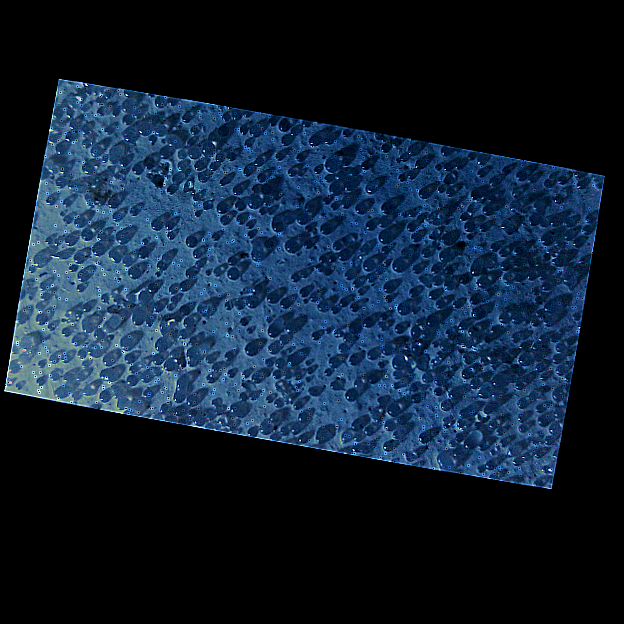GrassBeadSeg: (164, 221, 548, 472), (186, 169, 581, 413), (53, 214, 595, 391), (72, 174, 526, 382), (97, 145, 519, 342), (114, 148, 440, 395), (34, 212, 494, 386), (88, 145, 392, 405), (48, 197, 477, 381), (126, 206, 590, 374), (14, 313, 578, 442), (208, 118, 417, 461), (127, 263, 487, 451), (109, 211, 393, 447), (79, 182, 439, 366), (69, 205, 493, 347), (95, 184, 522, 323), (194, 230, 573, 385), (303, 169, 579, 380), (189, 242, 528, 409), (333, 160, 527, 433), (14, 218, 520, 322), (252, 214, 551, 383), (231, 185, 432, 435), (303, 225, 566, 416), (36, 315, 393, 452), (73, 221, 310, 421), (195, 173, 509, 323), (165, 231, 396, 430), (167, 214, 399, 407), (272, 223, 489, 424), (218, 216, 450, 403), (136, 247, 484, 371), (325, 255, 588, 419), (183, 203, 392, 408), (79, 291, 362, 442), (74, 284, 418, 402), (140, 238, 558, 331), (142, 240, 375, 399), (218, 202, 373, 434), (364, 215, 559, 383), (112, 184, 273, 376), (65, 180, 185, 415), (199, 141, 342, 338), (34, 215, 292, 324), (245, 231, 419, 392), (134, 249, 318, 398), (301, 239, 431, 443), (207, 307, 402, 443), (79, 270, 339, 368), (157, 147, 280, 353), (118, 336, 451, 410), (149, 354, 429, 440), (442, 218, 559, 421), (152, 219, 328, 351), (244, 326, 461, 431), (341, 271, 564, 369), (265, 316, 451, 428), (298, 288, 504, 388), (100, 306, 329, 395), (142, 314, 436, 382), (99, 316, 401, 381), (105, 267, 240, 412), (121, 335, 443, 395), (124, 299, 335, 386), (10, 264, 202, 354), (302, 204, 438, 323), (269, 220, 358, 401), (515, 226, 591, 422), (231, 203, 394, 294), (107, 250, 512, 286), (303, 295, 403, 440), (330, 241, 505, 322), (75, 200, 246, 280), (485, 173, 598, 284), (363, 294, 503, 382), (257, 355, 404, 434), (356, 309, 464, 416), (129, 279, 362, 326), (273, 334, 455, 387), (296, 202, 338, 421), (354, 285, 555, 327), (232, 187, 299, 305), (51, 110, 185, 169), (274, 321, 353, 421), (245, 157, 348, 224), (249, 249, 512, 275), (512, 200, 574, 306), (499, 166, 581, 242), (507, 200, 567, 303), (252, 327, 329, 403), (307, 292, 376, 375), (282, 134, 374, 196), (290, 126, 373, 193), (416, 247, 562, 282), (26, 242, 98, 311), (52, 392, 202, 425), (75, 349, 182, 394), (447, 264, 482, 401), (249, 366, 312, 441), (110, 271, 178, 339), (153, 97, 214, 171), (168, 301, 245, 358), (155, 261, 196, 367), (396, 153, 482, 203), (184, 316, 248, 383), (202, 302, 280, 355), (181, 317, 220, 420), (279, 128, 367, 173), (54, 120, 99, 208), (346, 301, 407, 364), (426, 162, 475, 239), (339, 381, 400, 442), (405, 195, 511, 229), (122, 255, 172, 326), (241, 369, 291, 433), (104, 179, 209, 209), (374, 357, 437, 406), (248, 117, 301, 175), (174, 377, 232, 428), (496, 327, 522, 435), (359, 322, 403, 385), (189, 317, 235, 377), (380, 221, 468, 251), (475, 353, 556, 385), (45, 176, 100, 223), (145, 122, 201, 168), (525, 239, 560, 312), (379, 136, 458, 168), (114, 397, 204, 425), (182, 378, 246, 416), (508, 173, 584, 204), (273, 338, 347, 368), (399, 188, 466, 221), (275, 126, 318, 176), (185, 113, 250, 146), (216, 109, 258, 160), (399, 258, 488, 282), (185, 249, 221, 307), (365, 283, 392, 359), (6, 328, 52, 372), (54, 125, 94, 175), (443, 154, 498, 190), (148, 220, 286, 234), (165, 161, 199, 217), (323, 321, 360, 372), (80, 116, 118, 164), (229, 403, 287, 434), (536, 241, 581, 280), (457, 321, 497, 364), (31, 242, 105, 265), (462, 365, 497, 413), (343, 188, 425, 208), (268, 401, 306, 443), (105, 255, 133, 311), (532, 248, 561, 302), (311, 330, 346, 374), (229, 140, 265, 182), (439, 145, 484, 177), (120, 103, 156, 143), (519, 439, 549, 486), (68, 332, 90, 396), (118, 158, 179, 181), (144, 281, 189, 312), (381, 260, 435, 285), (41, 295, 111, 313), (359, 138, 398, 170), (356, 220, 380, 271), (248, 357, 272, 402), (454, 420, 495, 445), (460, 359, 532, 373), (193, 153, 224, 185), (388, 263, 417, 297), (78, 109, 117, 134), (136, 268, 161, 306), (469, 221, 498, 251), (533, 423, 558, 456), (454, 434, 494, 454), (408, 305, 429, 338), (497, 438, 527, 460), (449, 279, 476, 303), (533, 341, 554, 371), (247, 424, 298, 436), (20, 344, 91, 352), (403, 251, 446, 264), (103, 157, 127, 179), (482, 445, 504, 469), (539, 374, 561, 398), (374, 229, 389, 264), (410, 247, 430, 273), (63, 228, 91, 246), (35, 236, 51, 267), (543, 379, 552, 434), (474, 448, 495, 471), (403, 338, 440, 351), (527, 316, 538, 357), (490, 245, 508, 270), (52, 231, 81, 246), (73, 366, 86, 399), (442, 274, 467, 291), (532, 436, 551, 458), (533, 372, 542, 418), (543, 389, 556, 420), (409, 232, 451, 241), (427, 295, 454, 308), (37, 360, 87, 367), (475, 326, 495, 342), (452, 295, 476, 308), (415, 188, 424, 222), (525, 335, 545, 350), (14, 344, 27, 367), (429, 265, 462, 274), (130, 122, 151, 136), (80, 321, 104, 333), (46, 323, 68, 335), (532, 342, 560, 351), (408, 290, 436, 299), (360, 203, 369, 231), (354, 203, 390, 210), (486, 419, 502, 434), (442, 448, 462, 460), (390, 258, 405, 274), (348, 303, 366, 316), (380, 233, 391, 254), (360, 258, 375, 273), (394, 301, 409, 315), (352, 357, 359, 387), (462, 321, 476, 336), (320, 195, 334, 210), (419, 276, 440, 285), (323, 199, 349, 206), (60, 353, 82, 361), (443, 328, 452, 347), (517, 451, 529, 465), (458, 439, 473, 450), (88, 321, 108, 329), (69, 371, 83, 382), (370, 258, 379, 274), (70, 376, 76, 400), (195, 303, 207, 314), (302, 206, 316, 215), (557, 343, 563, 363), (468, 377, 478, 389), (51, 354, 66, 362), (40, 355, 54, 363), (435, 452, 445, 463), (516, 354, 527, 364), (419, 247, 429, 258), (409, 232, 420, 242), (440, 234, 450, 245), (476, 279, 487, 289), (379, 202, 389, 213), (392, 322, 401, 334), (444, 233, 448, 260), (534, 303, 542, 316), (457, 275, 468, 284), (179, 307, 191, 315), (447, 439, 460, 446), (437, 340, 447, 349), (516, 341, 525, 350), (361, 316, 369, 326), (548, 332, 556, 342), (511, 457, 519, 466), (62, 373, 70, 381), (467, 223, 474, 232), (92, 328, 98, 338), (176, 395, 183, 403), (353, 208, 364, 213), (550, 396, 560, 401), (537, 420, 547, 425), (92, 344, 97, 354), (170, 392, 175, 402), (96, 334, 104, 340), (85, 347, 91, 355), (10, 368, 18, 374), (369, 221, 374, 230), (520, 362, 530, 366), (368, 316, 372, 325), (467, 368, 471, 376), (552, 430, 558, 435), (81, 330, 91, 333), (461, 375, 469, 378), (425, 189, 428, 197), (102, 368, 111, 370)
